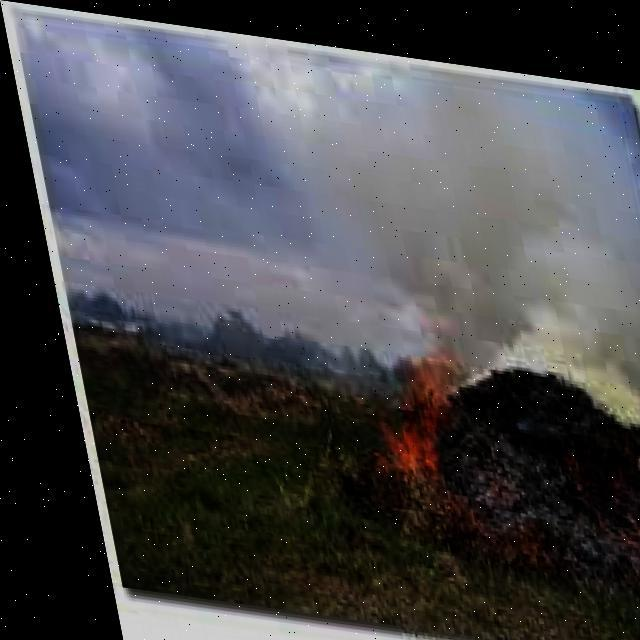Fire: (336, 328, 478, 486)
